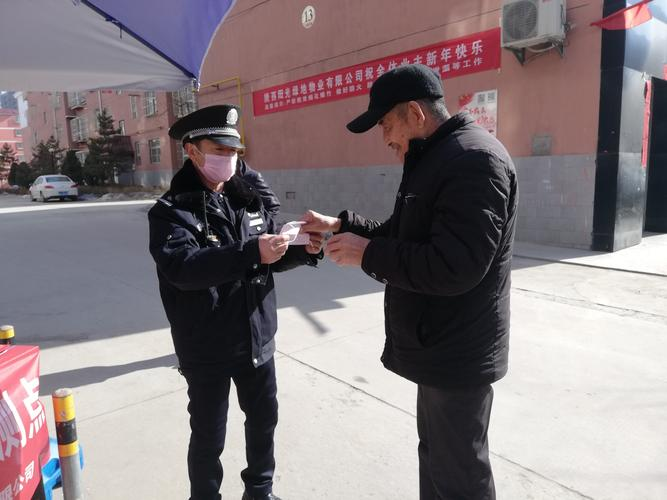mask: (196, 132, 242, 183)
no_mask: (377, 103, 424, 159)
